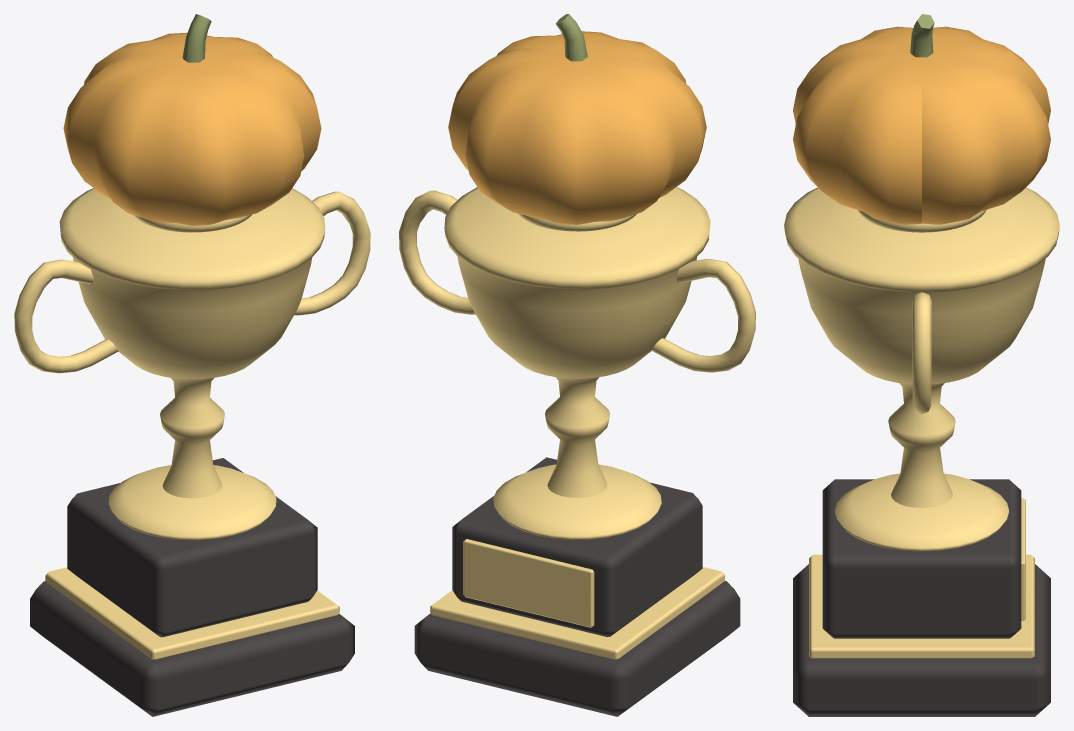
File: item-pumpkin-trophy-1.glb
The picture shows the model from 3 angles, left to right: view 1: azimuth 30°, elevation 25°; view 2: azimuth 150°, elevation 25°; view 3: azimuth 270°, elevation 25°; orthographic projection. The views are drawn at different scales.
Size of the model in its own units: 0.2136 by 0.3668 by 0.139.
